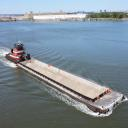tugboat: (5, 39, 33, 69)
